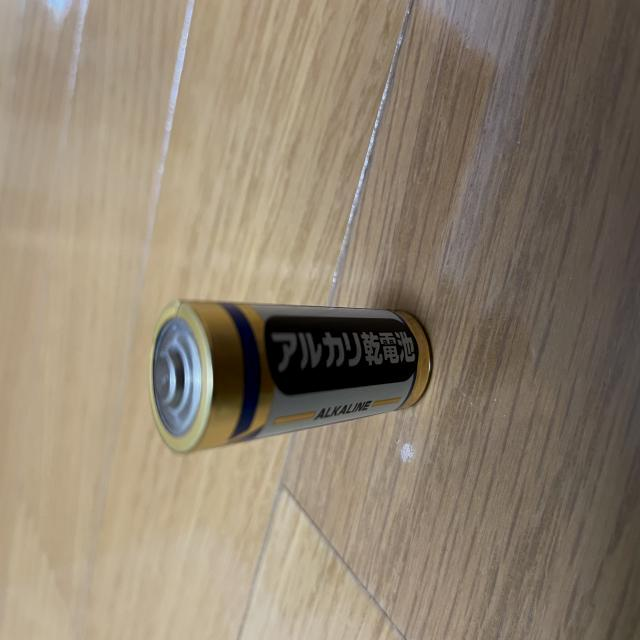AA: (142, 287, 462, 458)
